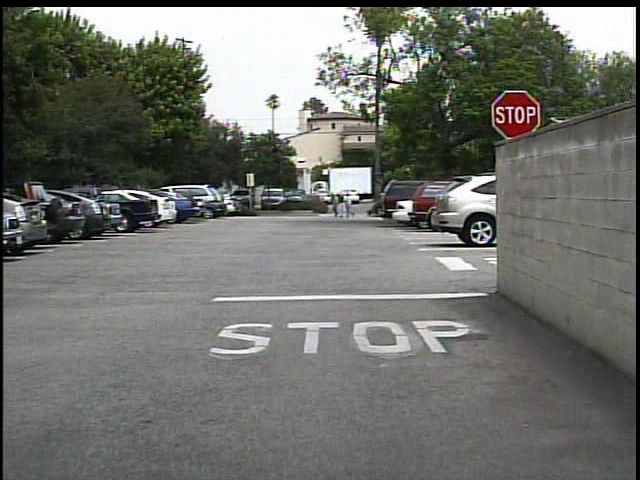person: (328, 191, 343, 219), (344, 193, 358, 221)
